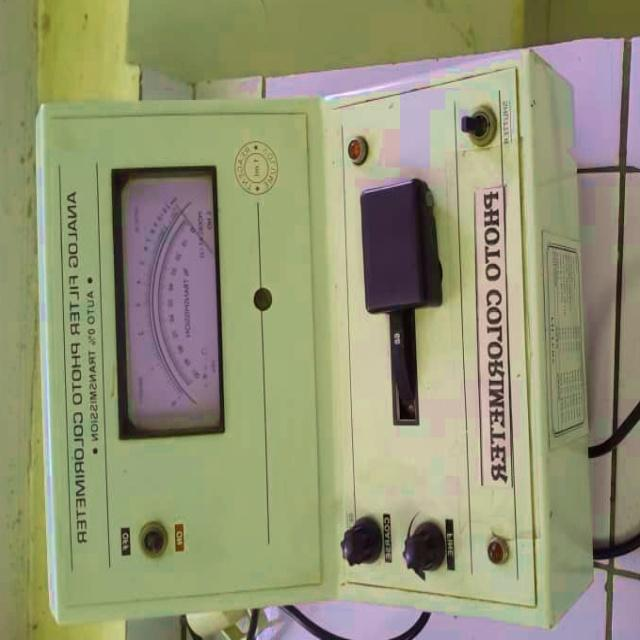Photocolorimeter: (24, 65, 568, 623)
